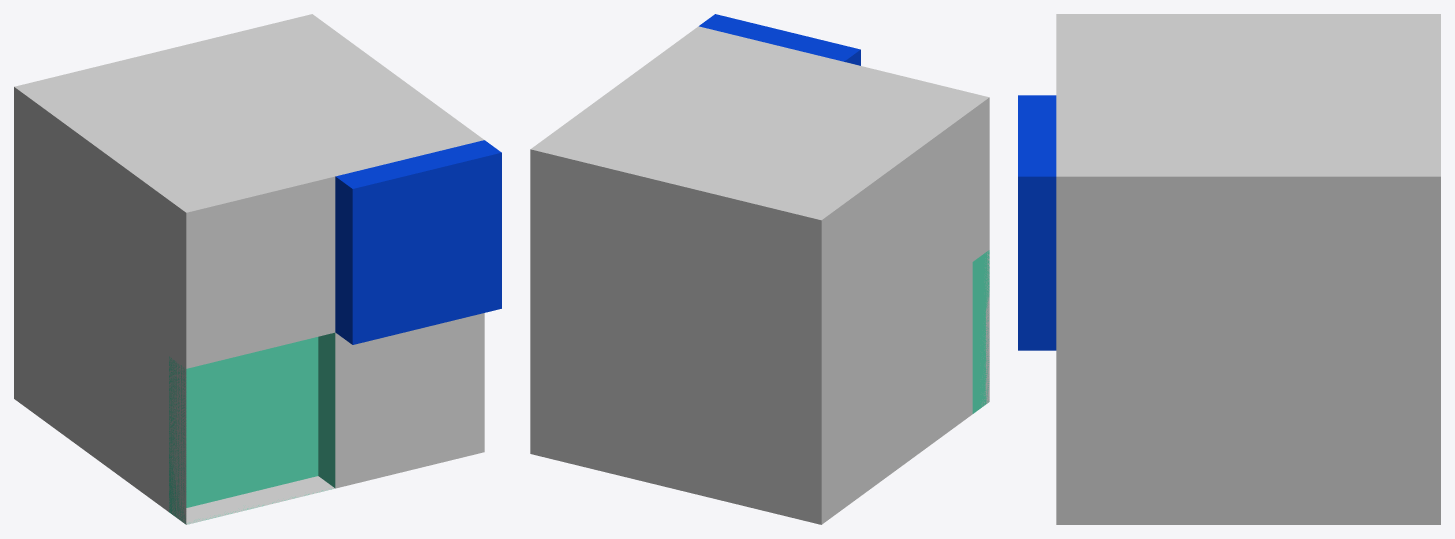
Rendered from Wall2_1x1.fbx.
3 views of the same model, side by side, from view 1: azimuth 30°, elevation 25°; view 2: azimuth 150°, elevation 25°; view 3: azimuth 270°, elevation 25° (orthographic). The views are drawn at different scales.
Parts seen in each view (by area): view 1: Wall2 1x1; view 2: Wall2 1x1; view 3: Wall2 1x1.
Part boxes in pixels (<box>): Wall2 1x1: <box>14,14,501,524</box>; Wall2 1x1: <box>530,14,989,524</box>; Wall2 1x1: <box>1018,14,1440,524</box>.
Bounding box in the file's own units: 100 × 100 × 110.
